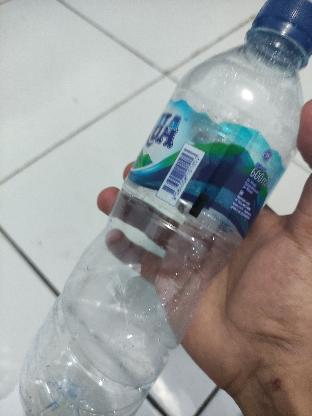Plastic Bottle: (15, 0, 312, 416)
